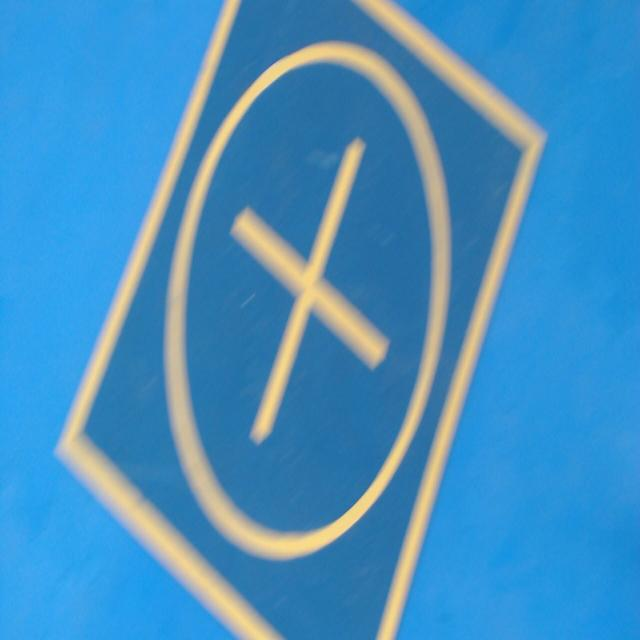base_pouso: (53, 1, 550, 639)
